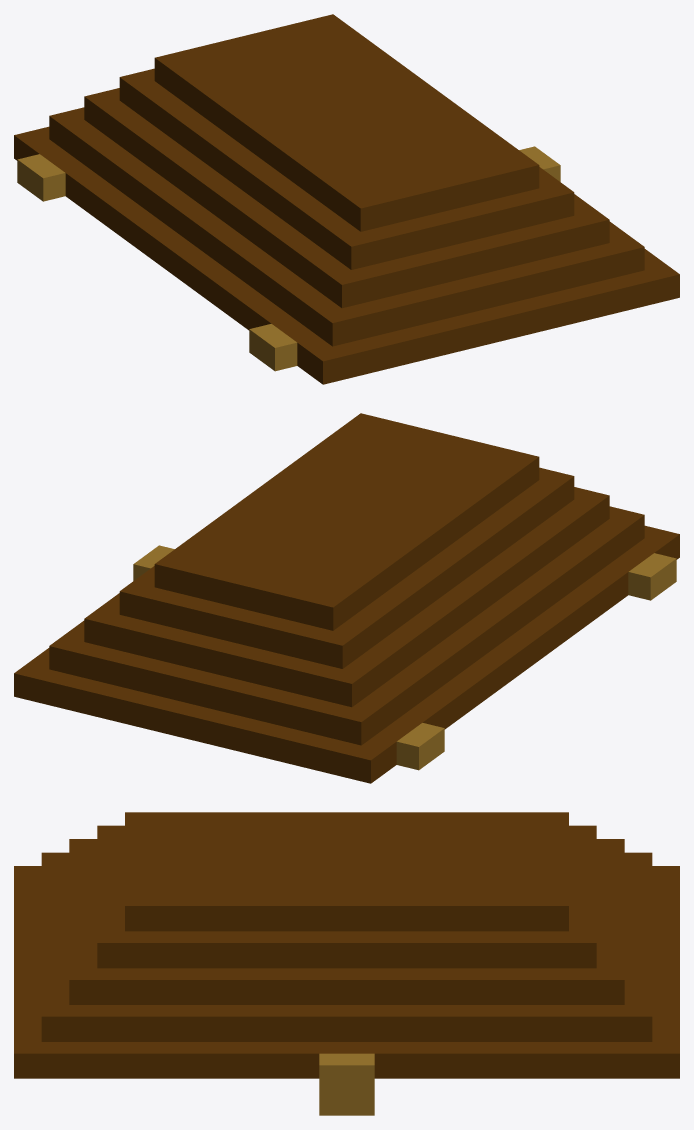
Rendered from Chest B.obj.
3 renders of one model, top to bottom at view 1: azimuth 30°, elevation 25°; view 2: azimuth 150°, elevation 25°; view 3: azimuth 270°, elevation 25°, orthographic. The views are drawn at different scales.
Visible parts, largest first — view 1: Chest B; view 2: Chest B; view 3: Chest B.
Part boxes in pixels (bbox=[...]): Chest B: bbox=[14, 14, 679, 384]; Chest B: bbox=[14, 413, 679, 783]; Chest B: bbox=[14, 812, 679, 1115].
Size of the model in its own units: 18 by 6 by 24.
